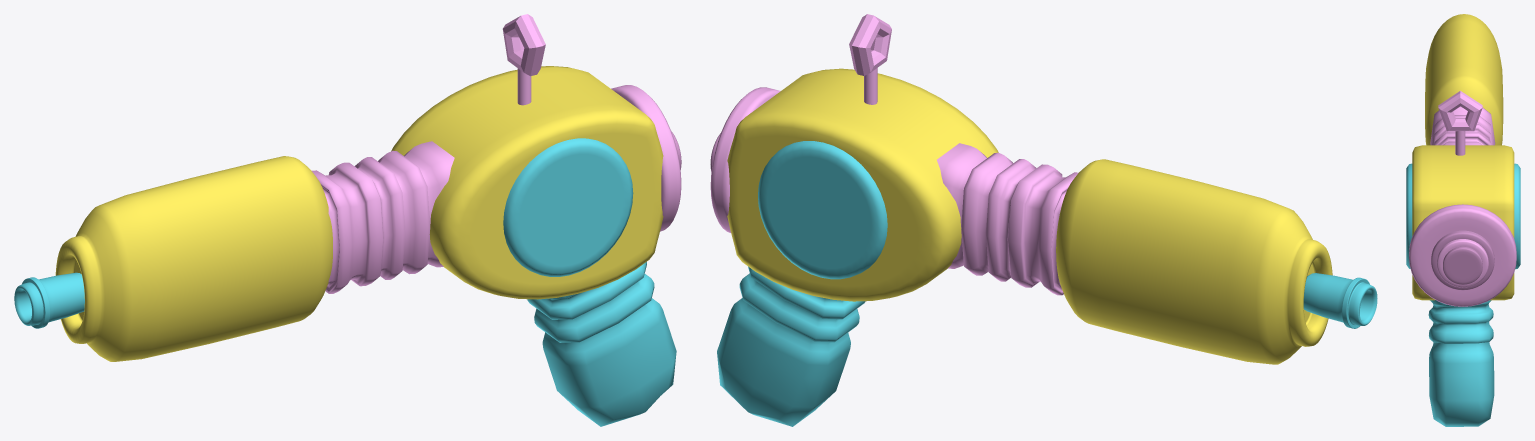
The model's file is Gun_Final.fbx.
3 views of the same model, side by side, from view 1: azimuth 30°, elevation 25°; view 2: azimuth 150°, elevation 25°; view 3: azimuth 270°, elevation 25° (orthographic). The views are drawn at different scales.
Parts seen in each view (by area): view 1: gun_Barrel, Gun_base, Gun_handle, Gun_sides, Gun_Bridge, Gun_Nozzel, Gun_back, Gun_aim; view 2: gun_Barrel, Gun_base, Gun_handle, Gun_sides, Gun_Bridge, Gun_Nozzel, Gun_back, Gun_aim; view 3: Gun_back, Gun_handle, Gun_base, gun_Barrel, Gun_aim, Gun_Bridge, Gun_sides.
Part boxes in pixels (x1,y1,x2,y2): gun_Barrel: [55, 156, 332, 361]; Gun_base: [391, 66, 663, 299]; Gun_handle: [527, 262, 676, 426]; Gun_sides: [503, 138, 633, 276]; Gun_Bridge: [312, 141, 454, 293]; Gun_Nozzel: [14, 272, 84, 328]; Gun_back: [611, 85, 681, 231]; Gun_aim: [502, 14, 545, 105]; gun_Barrel: [1056, 159, 1332, 364]; Gun_base: [727, 68, 998, 301]; Gun_handle: [717, 266, 865, 426]; Gun_sides: [758, 141, 887, 279]; Gun_Bridge: [937, 143, 1078, 295]; Gun_Nozzel: [1303, 273, 1377, 328]; Gun_back: [710, 87, 780, 232]; Gun_aim: [849, 14, 891, 104]; Gun_back: [1409, 204, 1516, 306]; Gun_handle: [1428, 300, 1494, 426]; Gun_base: [1412, 145, 1514, 300]; gun_Barrel: [1425, 14, 1503, 145]; Gun_aim: [1438, 91, 1482, 155]; Gun_Bridge: [1430, 106, 1495, 145]; Gun_sides: [1406, 163, 1520, 269].
Bounding box in the file's own units: 27.83 × 17.32 × 5.97.
